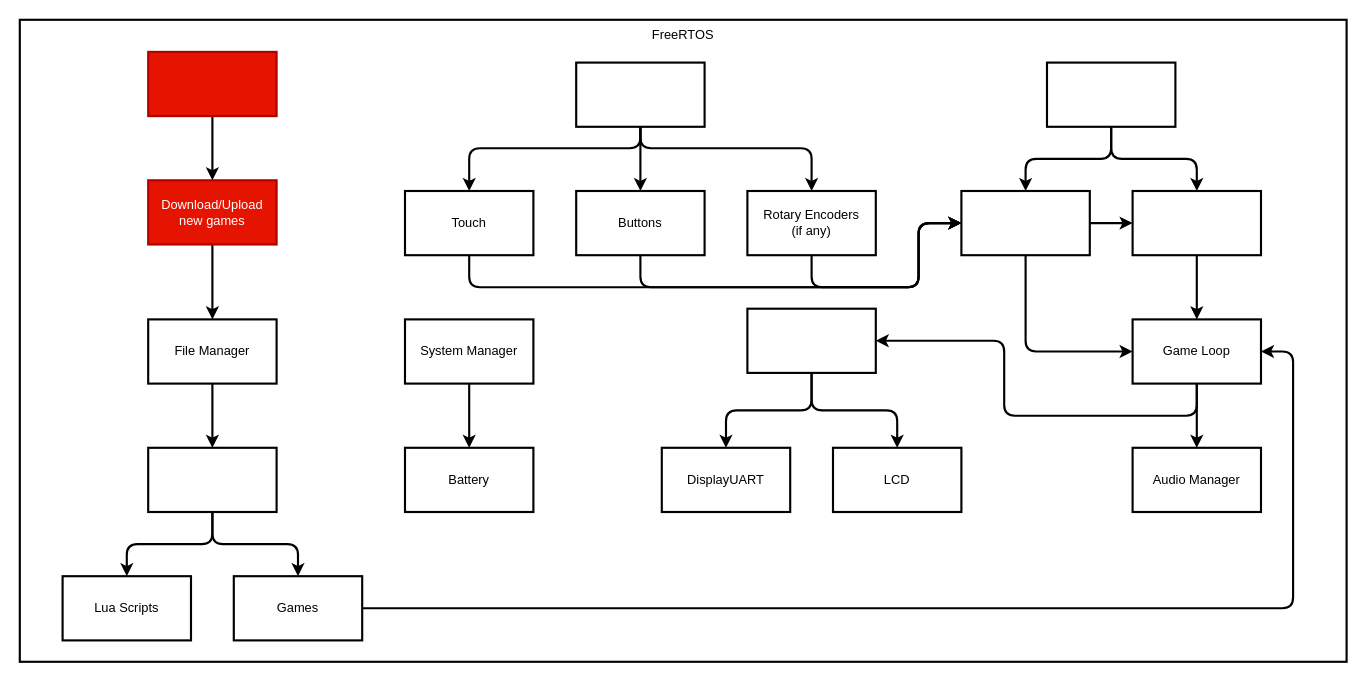
This 1365x681 diagram has some shape labels left out. The centre of each missing label's shape, as x and y in pixels:
"API Bindings" belongs at (x=1025, y=222).
"DIsplay Manager" belongs at (x=811, y=340).
"Input Manager" belongs at (x=640, y=94).
"LUA Manager" belongs at (x=1110, y=94).
"Main Menu" belongs at (x=1196, y=222).
"Network Manager" belongs at (x=212, y=83).
"SD Card" belongs at (x=212, y=479).
